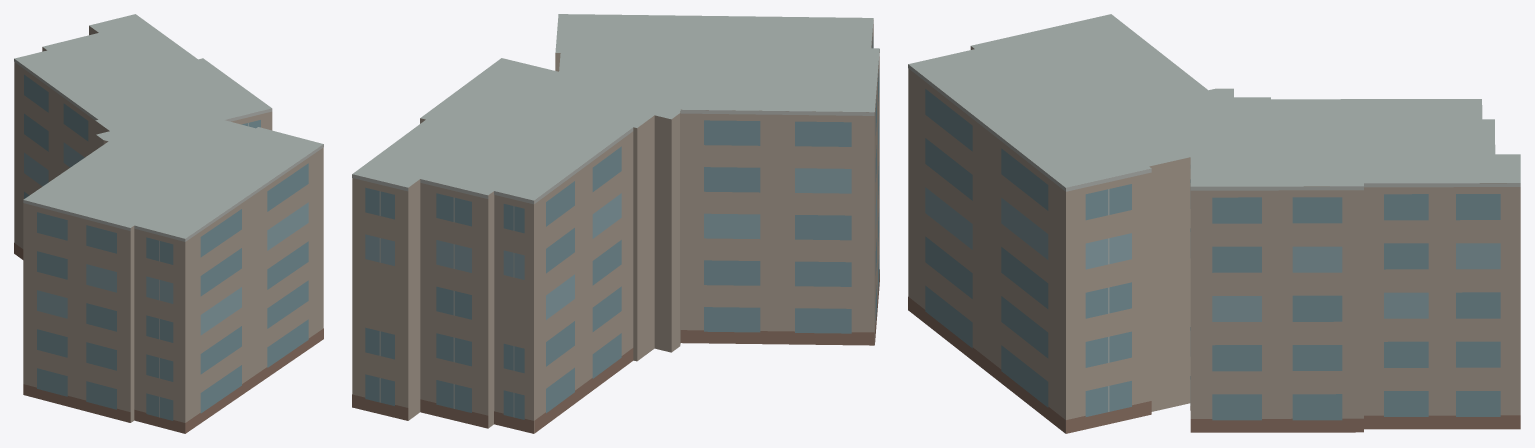
File: survey-upis-32791593.glb
The picture shows the model from 3 angles, left to right: view 1: azimuth 30°, elevation 25°; view 2: azimuth 150°, elevation 25°; view 3: azimuth 270°, elevation 25°; orthographic projection. The views are drawn at different scales.
Parts seen in each view (by area): view 1: survey-upis-32791593.tmp; view 2: survey-upis-32791593.tmp; view 3: survey-upis-32791593.tmp.
Part boxes in pixels (left/top/right/bottom): survey-upis-32791593.tmp: left=14, top=14, right=323, bottom=433; survey-upis-32791593.tmp: left=352, top=14, right=879, bottom=433; survey-upis-32791593.tmp: left=908, top=14, right=1520, bottom=433.
Bounding box in the file's own units: 22.89 × 15.1 × 34.08.
